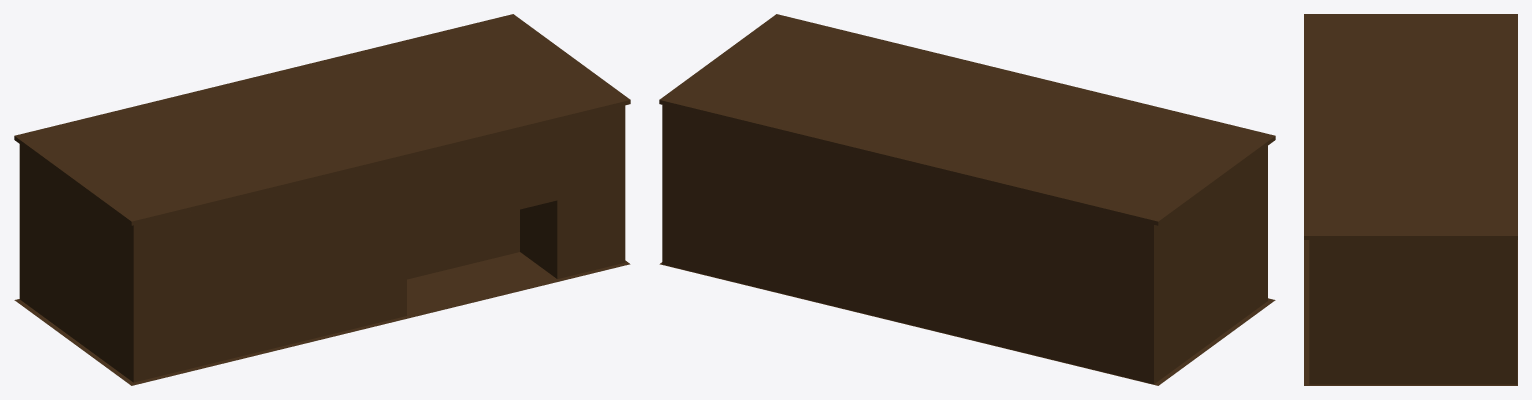
Rendered from SM_LevelDemo.fbx.
3 views of the same model, side by side, from view 1: azimuth 30°, elevation 25°; view 2: azimuth 150°, elevation 25°; view 3: azimuth 270°, elevation 25° (orthographic). The views are drawn at different scales.
Parts seen in each view (by area): view 1: teto, planta_02, planta_01, chao_01, chao_02; view 2: teto, planta_01, planta_02, chao_02, chao_01; view 3: teto, planta_01, planta_02, chao_01, chao_02.
Part boxes in pixels (x1,y1,x2,y2): teto: [14, 14, 630, 225]; planta_02: [19, 105, 625, 301]; planta_01: [19, 184, 625, 382]; chao_01: [14, 252, 630, 385]; chao_02: [19, 182, 625, 303]; teto: [659, 14, 1275, 225]; planta_01: [662, 185, 1267, 384]; planta_02: [662, 105, 1267, 303]; chao_02: [662, 183, 1267, 304]; chao_01: [659, 262, 1275, 385]; teto: [1304, 14, 1517, 239]; planta_01: [1309, 312, 1517, 384]; planta_02: [1309, 240, 1517, 310]; chao_01: [1304, 240, 1517, 385]; chao_02: [1309, 311, 1517, 312].
Bounding box in the file's own units: 9877 × 3108 × 4022.
